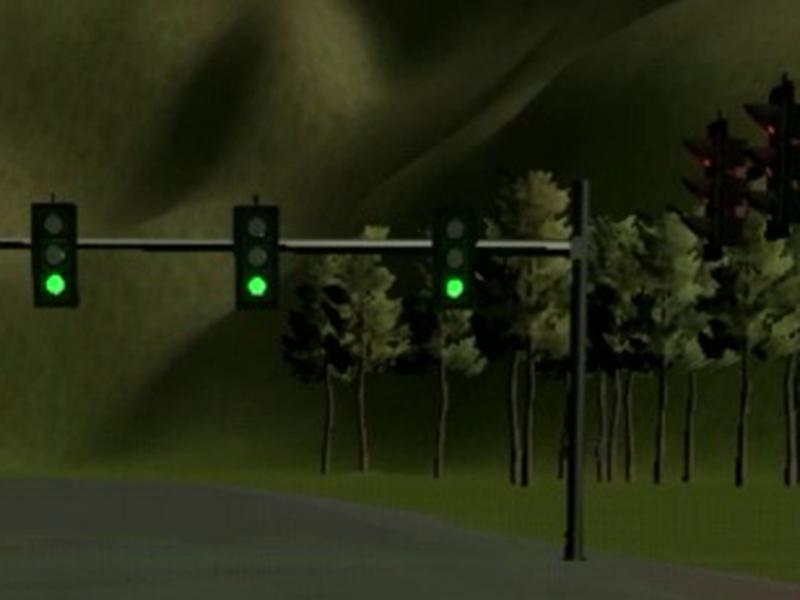Green: (32, 202, 79, 309), (235, 204, 280, 310), (431, 209, 477, 307)
